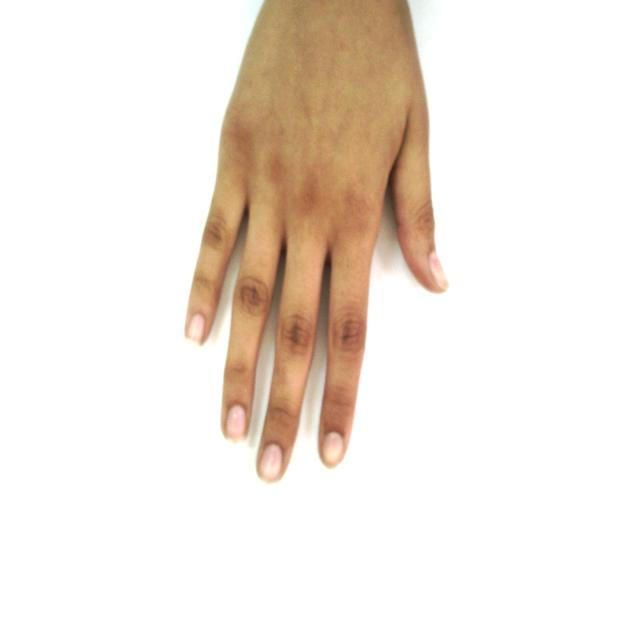Fingernail: (260, 444, 282, 481), (227, 405, 246, 441), (430, 249, 448, 286), (323, 432, 343, 465), (187, 315, 205, 343)
